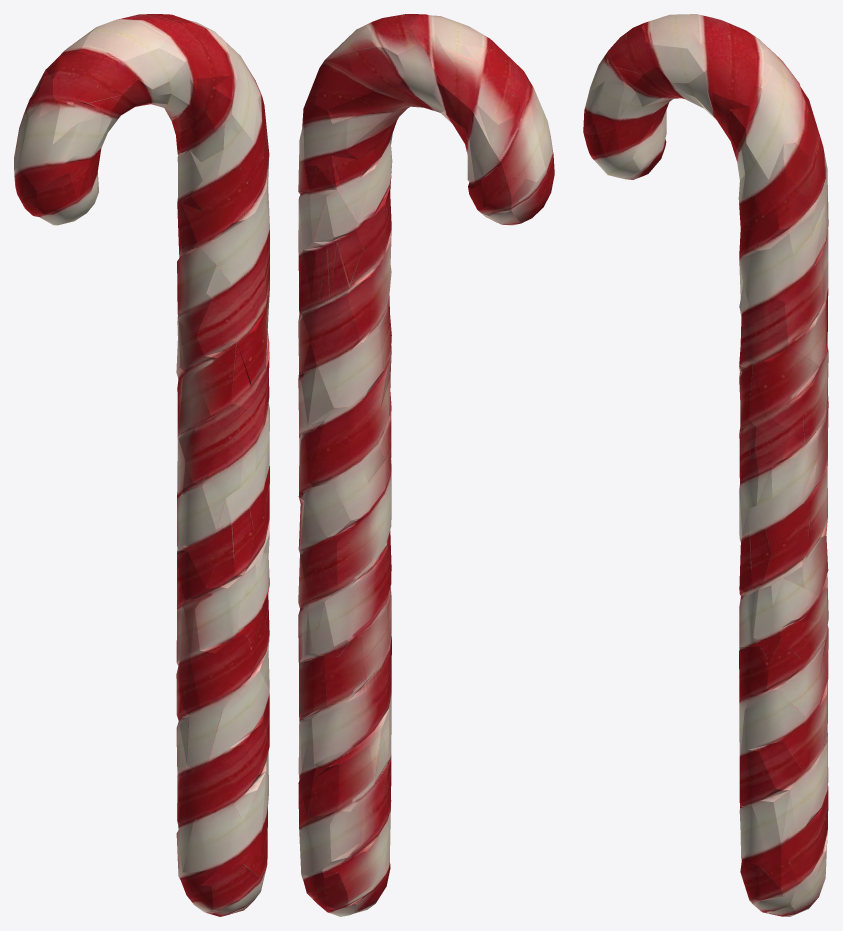
File: obstacle-candy-cane.glb
The picture shows the model from 3 angles, left to right: view 1: azimuth 30°, elevation 25°; view 2: azimuth 150°, elevation 25°; view 3: azimuth 330°, elevation 25°; orthographic projection. The views are drawn at different scales.
Parts seen in each view (by area): view 1: output_unwrapped; view 2: output_unwrapped; view 3: output_unwrapped.
Part boxes in pixels (<box>): output_unwrapped: <box>14,14,269,916</box>; output_unwrapped: <box>298,14,554,916</box>; output_unwrapped: <box>583,14,828,916</box>.
Bounding box in the file's own units: 0.53 × 1.9 × 0.1814.
1 material, 1 textured.
